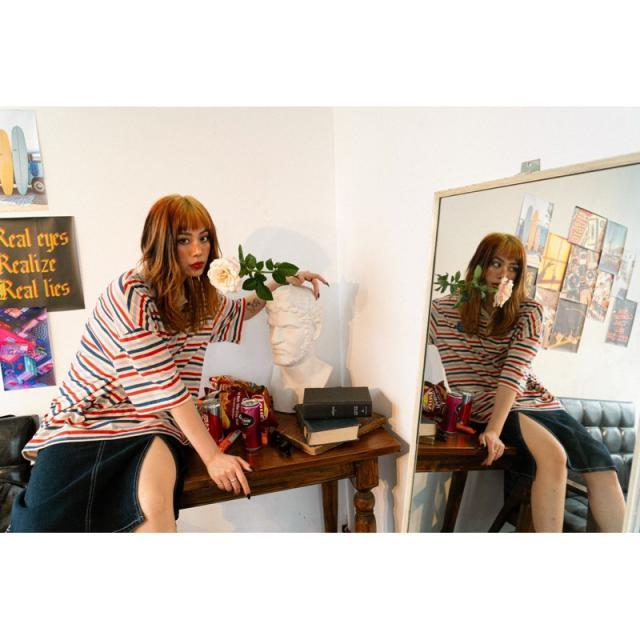Shirt: (22, 273, 244, 438), (430, 288, 566, 419)
